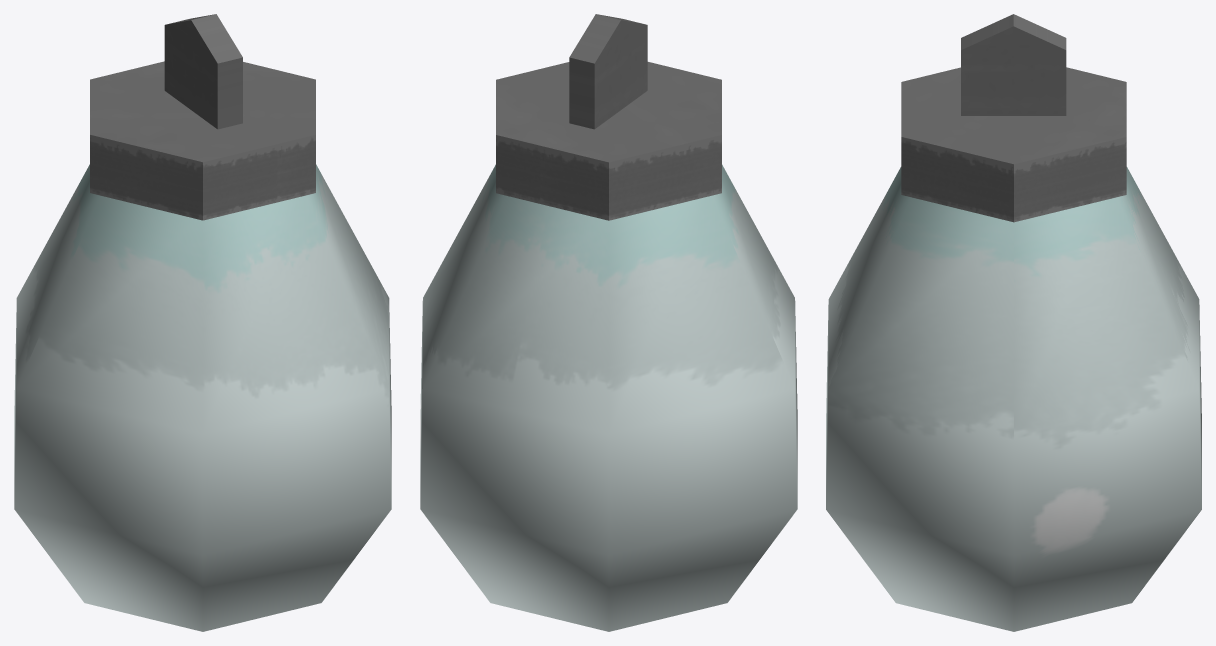
The model's file is ChristmasLights.FBX.
3 views of the same model, side by side, from view 1: azimuth 30°, elevation 25°; view 2: azimuth 150°, elevation 25°; view 3: azimuth 270°, elevation 25° (orthographic).
Visible parts, largest first — view 1: Cylinder001; view 2: Cylinder001; view 3: Cylinder001.
Part boxes in pixels (bbox=[...]): Cylinder001: bbox=[14, 14, 391, 631]; Cylinder001: bbox=[420, 14, 797, 631]; Cylinder001: bbox=[826, 14, 1201, 631].
Bounding box in the file's own units: 15.11 × 22.87 × 13.09.
1 material, 1 textured.
